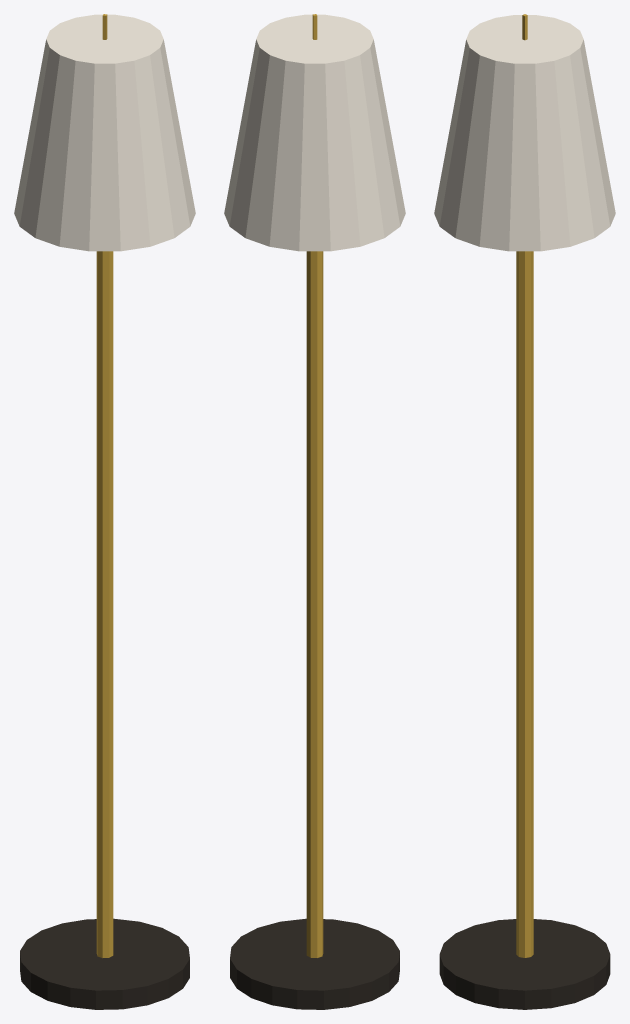
Rendered from floor-lamp.glb.
3 renders of one model, left to right at view 1: azimuth 30°, elevation 25°; view 2: azimuth 150°, elevation 25°; view 3: azimuth 270°, elevation 25°, orthographic.
Visible parts, largest first — view 1: floor-lamp; view 2: floor-lamp; view 3: floor-lamp.
Boxes of the visible parts, x1=… form: floor-lamp: x1=14, y1=14, x2=195, y2=1009; floor-lamp: x1=224, y1=14, x2=405, y2=1009; floor-lamp: x1=434, y1=14, x2=615, y2=1009.
Bounding box in the file's own units: 0.3348 × 1.98 × 0.34.
